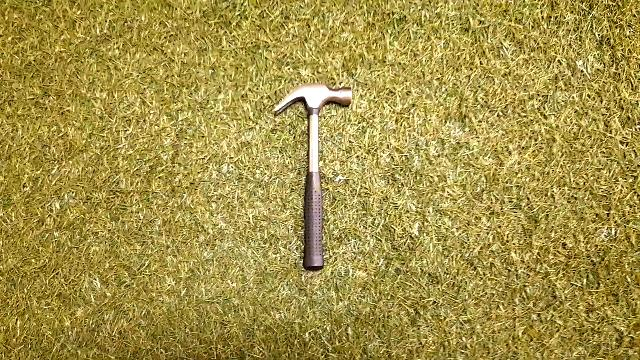hammer: (260, 77, 362, 282)
